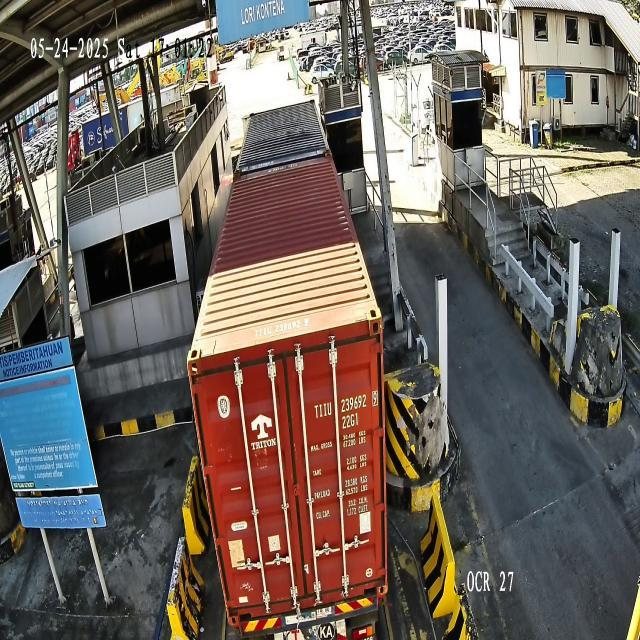ISO: (342, 412, 359, 430)
container_number: (313, 390, 378, 420)
